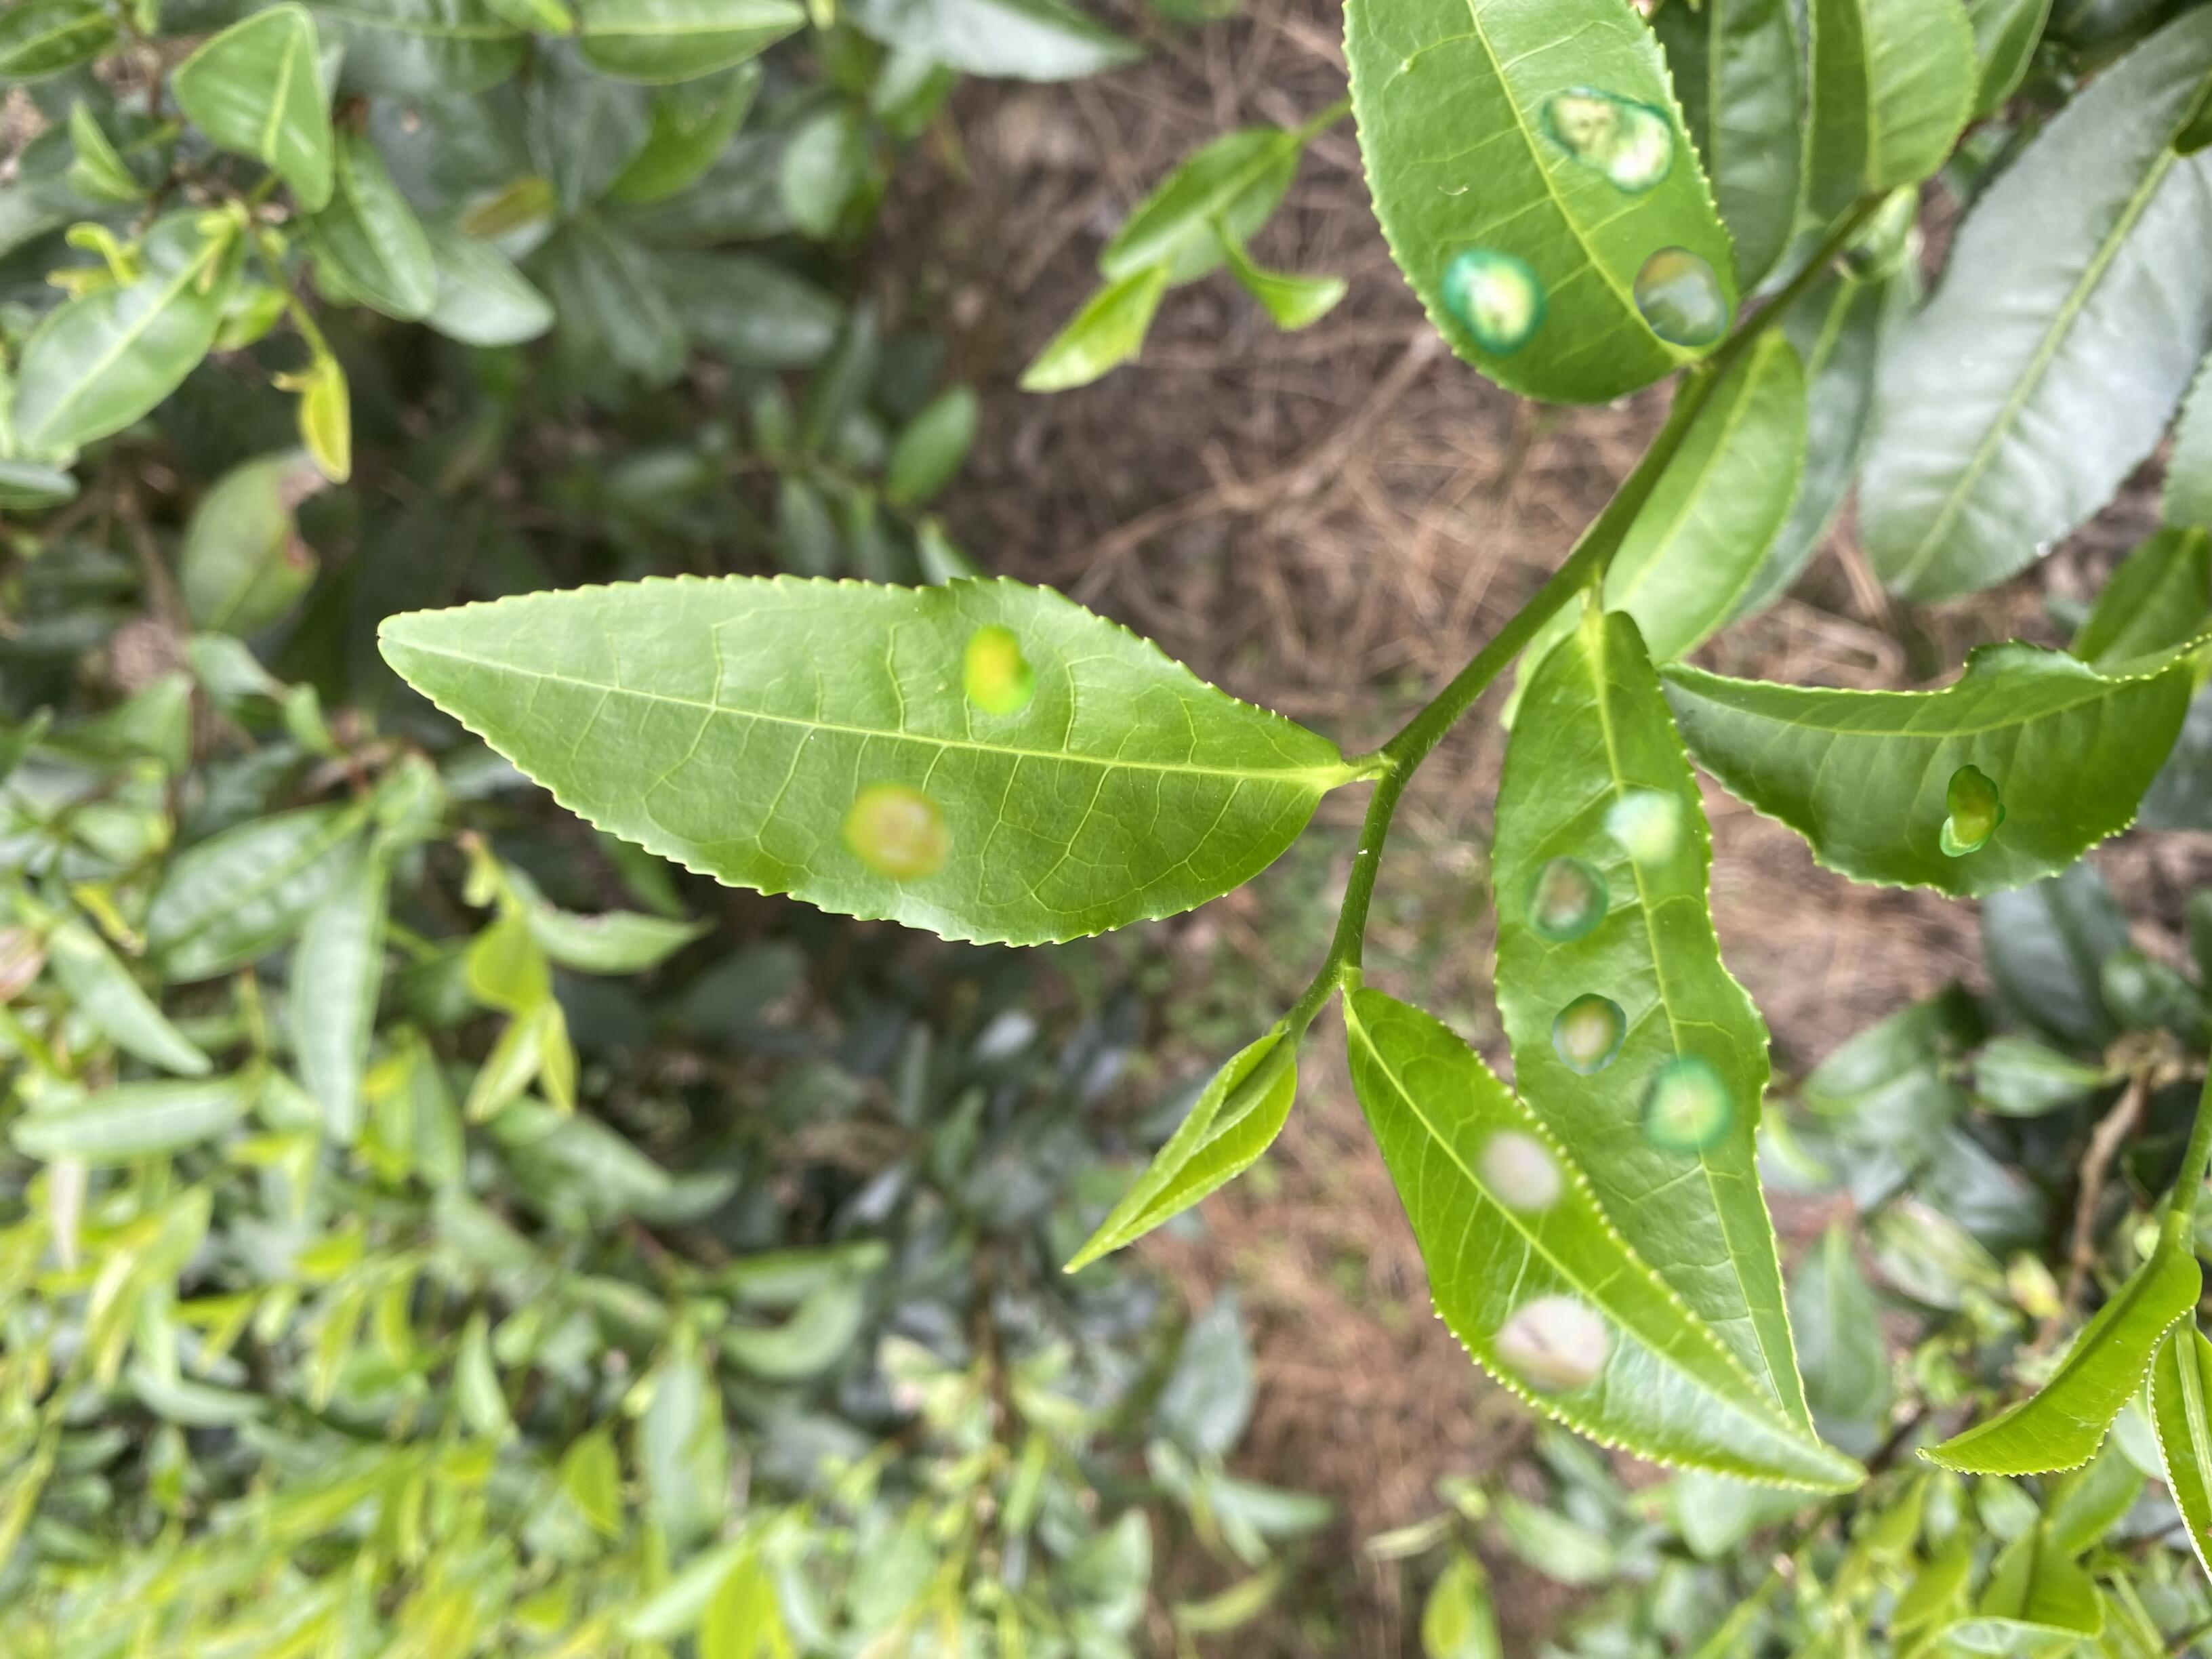chabing_high: (373, 568, 1336, 953), (1484, 608, 1820, 1432), (1345, 992, 1871, 1492), (1336, 2, 1745, 408)
chabing_low: (1658, 634, 2210, 903)
